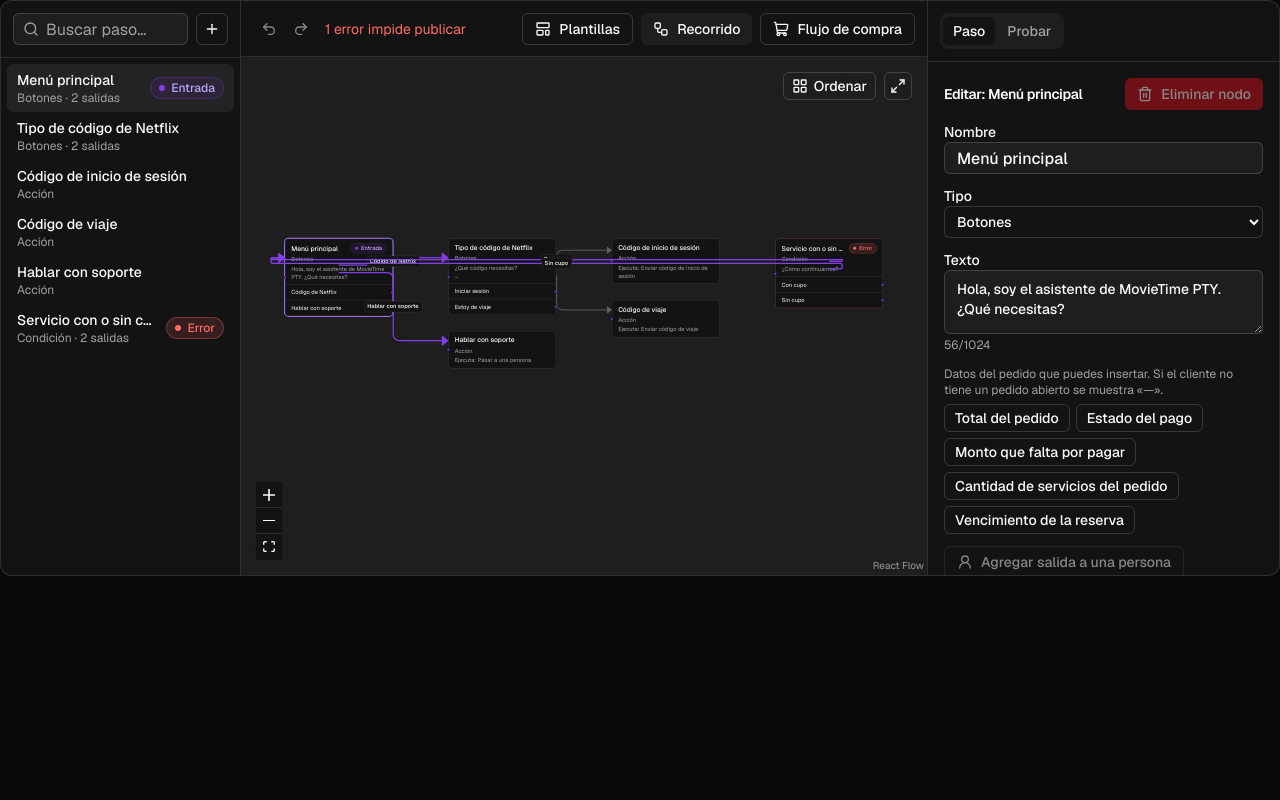
Test: condiciones › el nodo de condicion de un recorrido existente se edita sin poder quitar sus salidas
Click the button "Servicio con o sin cupo Condición · 2 salidas Error". click: (120, 328)
box: [7,304,234,352]
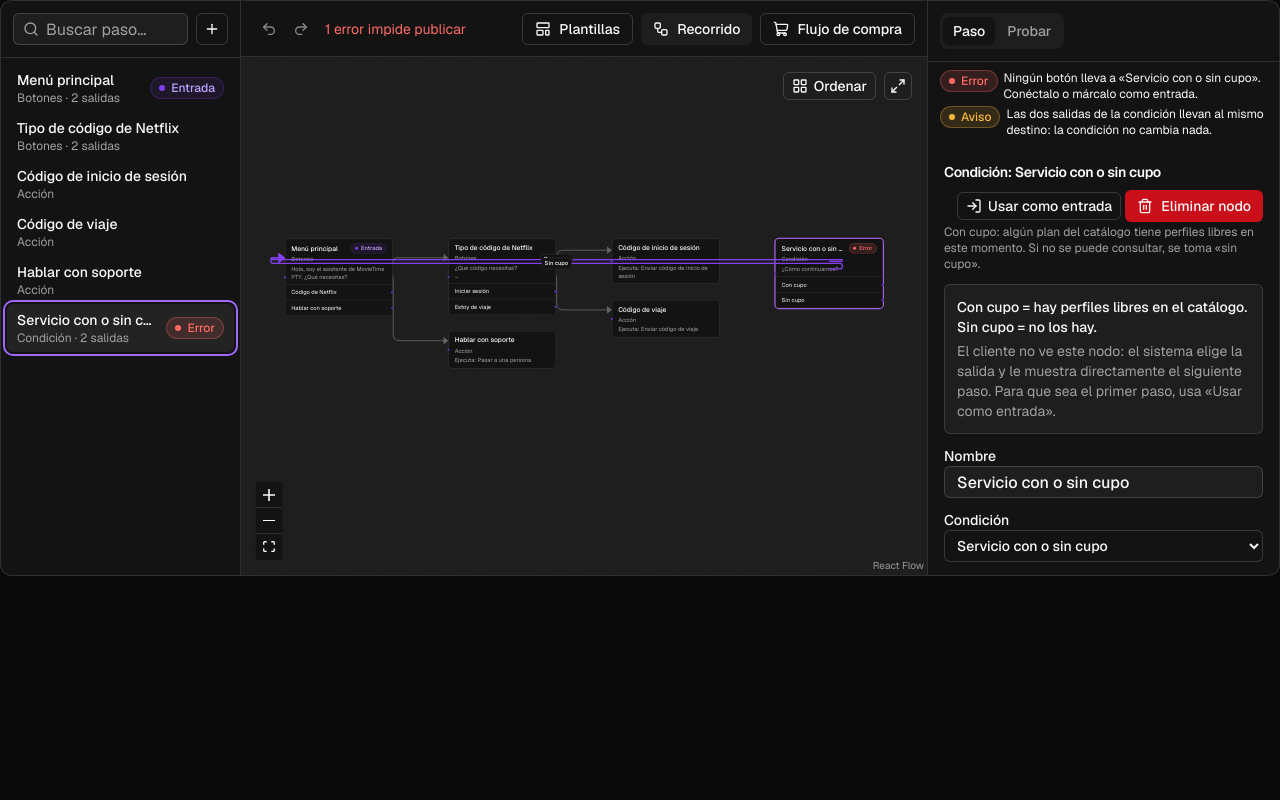
Check: the button "Agregar salida a una persona" is gone
